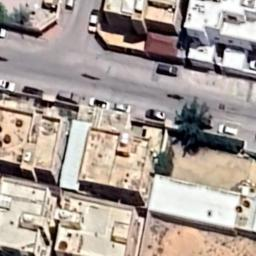SUV: (88, 14, 98, 34)
sedan: (88, 96, 110, 110), (114, 102, 132, 114), (0, 80, 16, 92)
unknown: (22, 85, 44, 98)
van: (155, 62, 179, 78), (56, 90, 82, 104), (145, 108, 166, 122), (217, 122, 238, 136)
